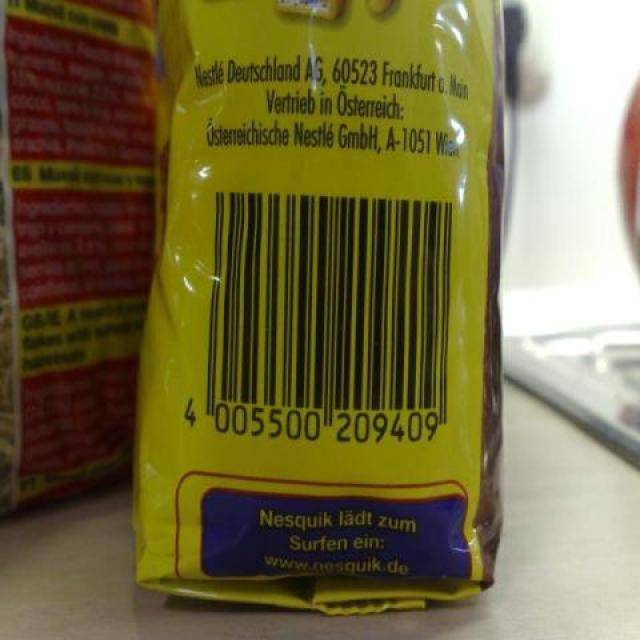Barcode: (183, 180, 466, 456)
